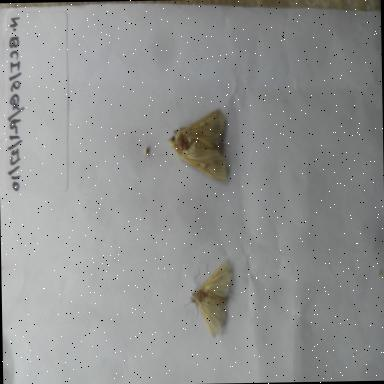abw: (164, 104, 234, 188), (179, 251, 239, 340)
